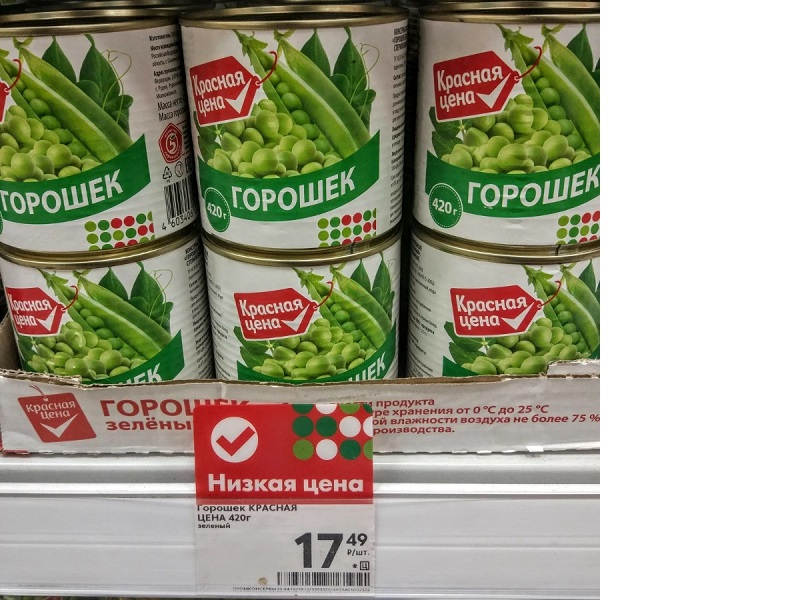peas: (189, 1, 418, 261), (1, 9, 219, 263), (403, 1, 599, 257)
